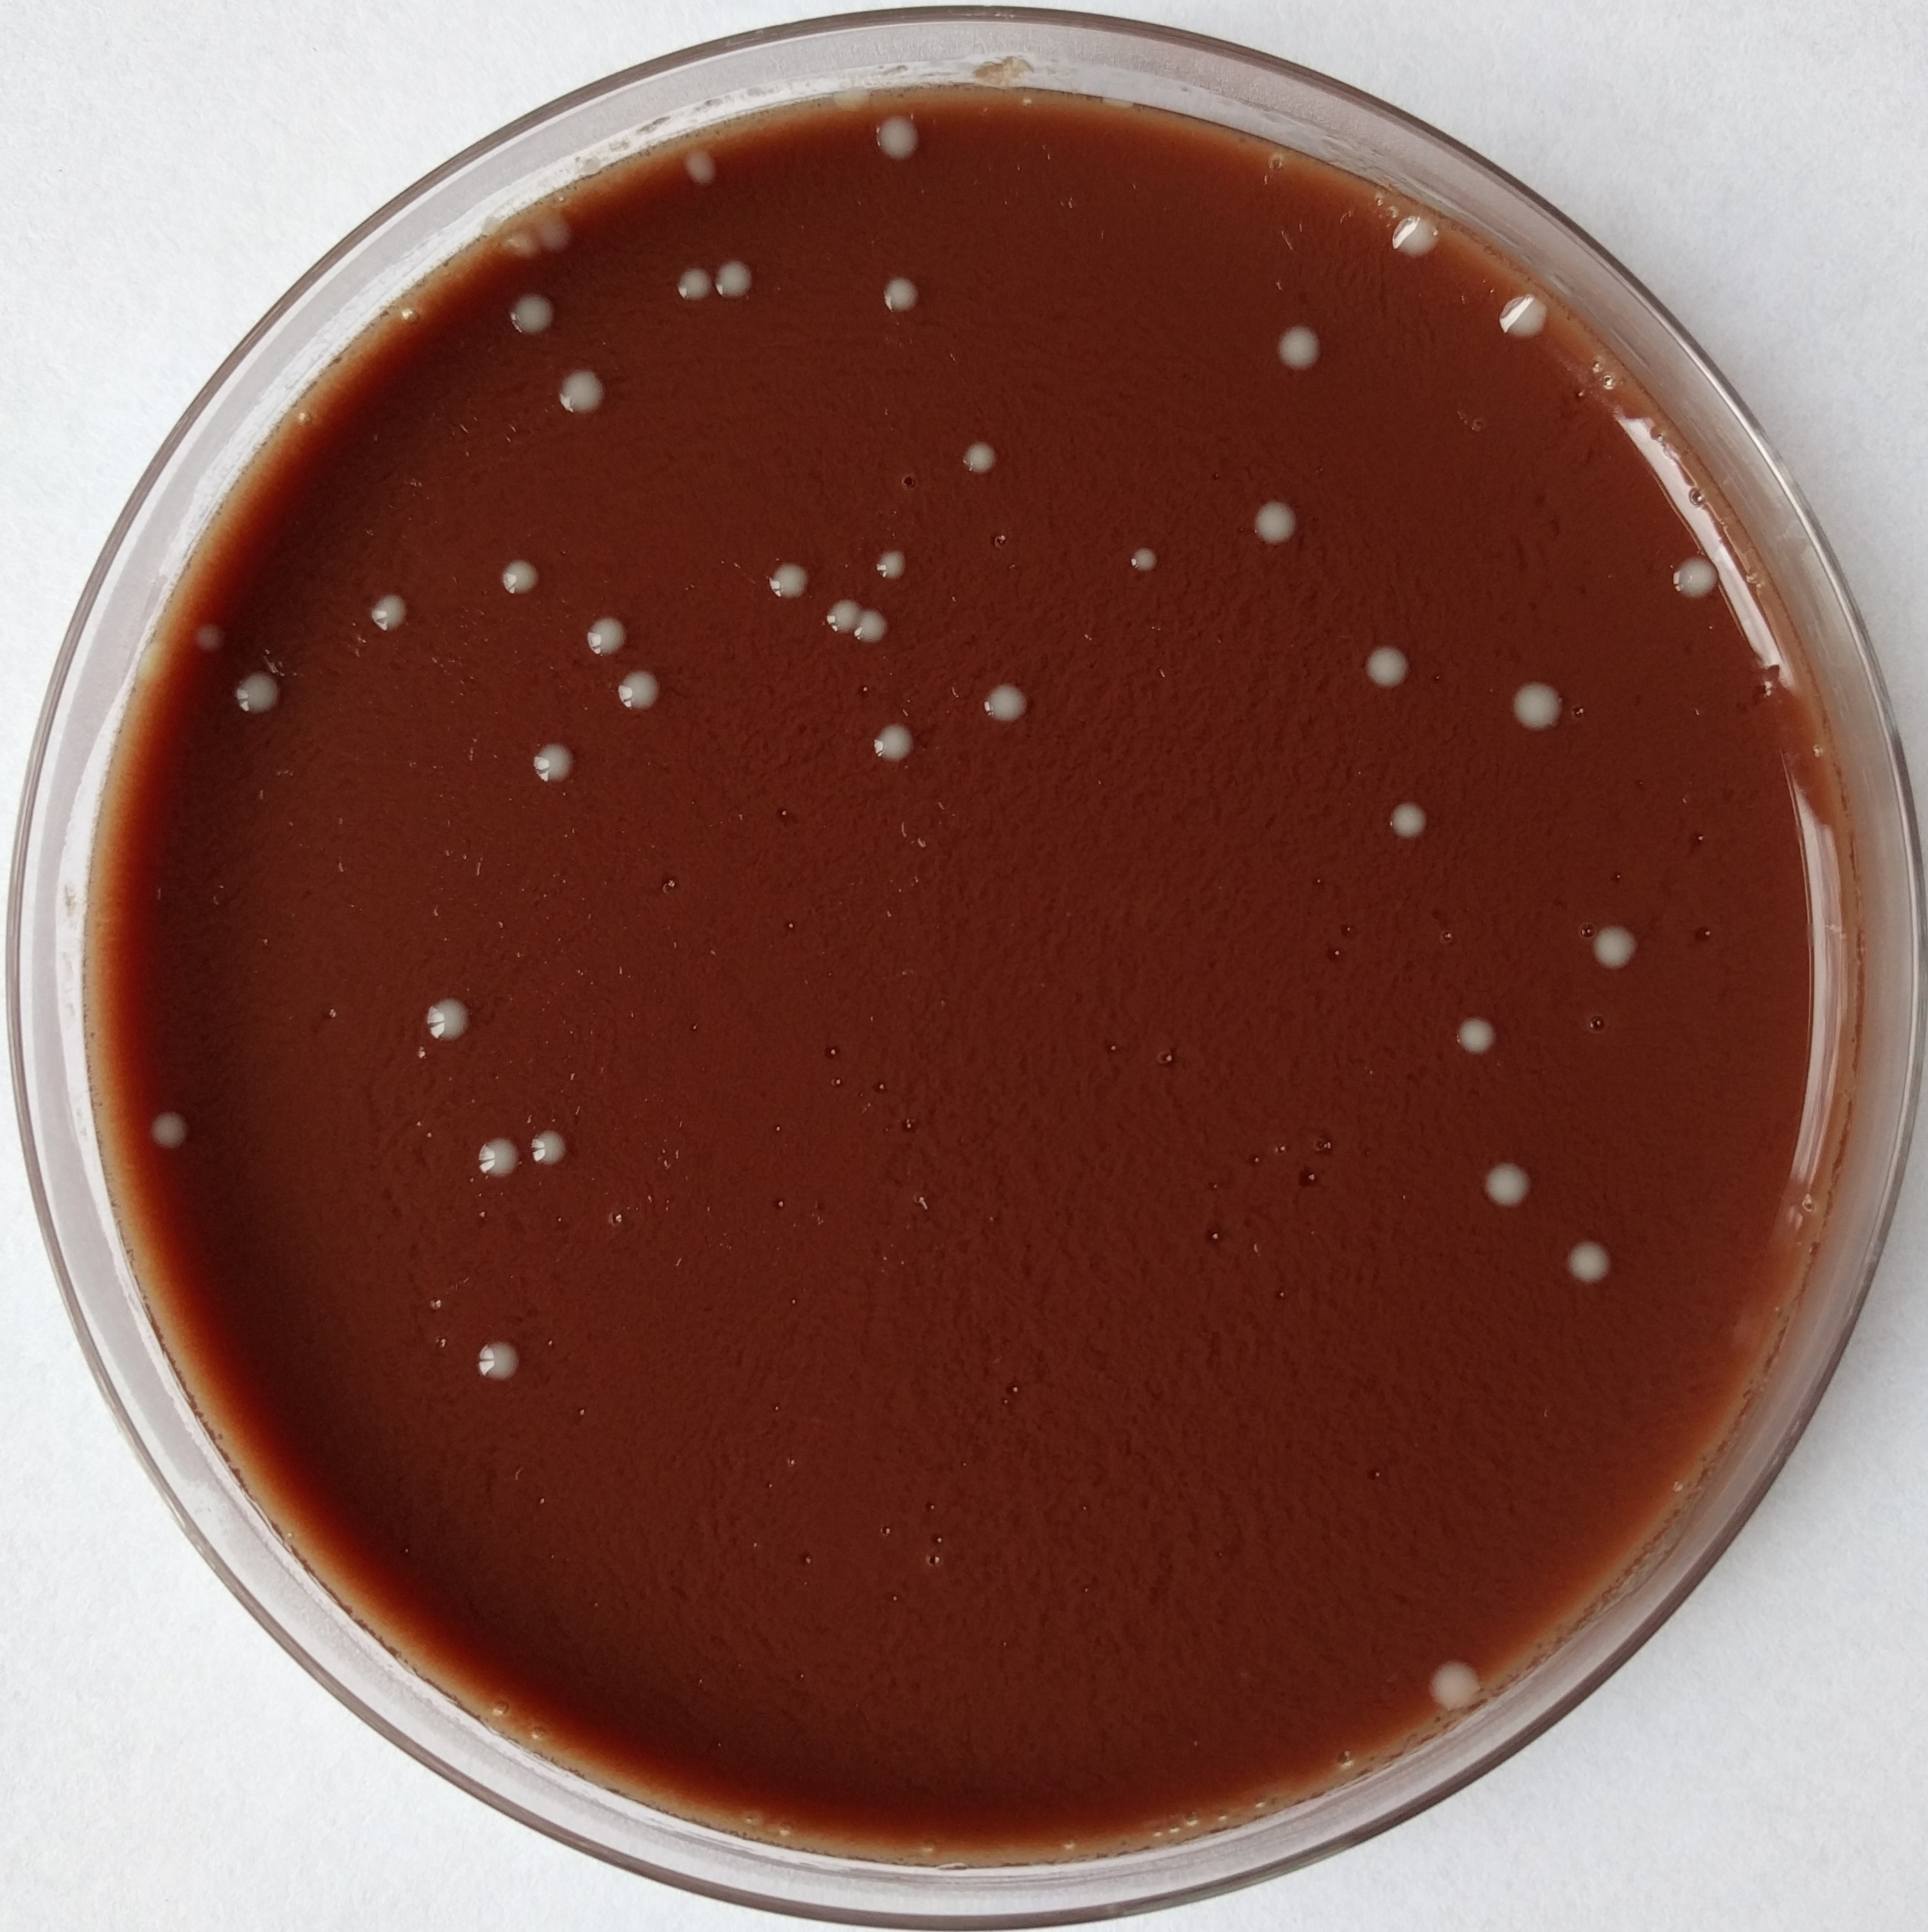sp12: (1490, 641, 1582, 754), (466, 1309, 553, 1406), (1465, 1139, 1554, 1217), (551, 336, 621, 426), (969, 662, 1047, 743), (1414, 1646, 1495, 1724), (1432, 1001, 1525, 1068), (1379, 191, 1453, 274), (1555, 1208, 1619, 1303), (606, 655, 673, 733), (403, 991, 484, 1054), (1573, 911, 1651, 975), (1241, 487, 1308, 558), (1352, 632, 1427, 696), (579, 597, 639, 675), (1266, 307, 1322, 389), (468, 1125, 538, 1189), (521, 729, 591, 789), (759, 539, 819, 606), (1490, 286, 1564, 339), (869, 104, 925, 173), (503, 283, 556, 353), (879, 267, 932, 334), (147, 1088, 201, 1151), (503, 532, 549, 606), (865, 712, 918, 775), (231, 666, 284, 729), (1670, 539, 1723, 602), (717, 256, 784, 306), (358, 586, 429, 632), (127, 632, 175, 698), (662, 256, 715, 313), (1118, 532, 1174, 585), (676, 138, 733, 191), (1375, 791, 1435, 841), (821, 583, 874, 636), (178, 604, 230, 657), (862, 546, 922, 588), (952, 438, 1008, 482), (823, 78, 870, 124), (533, 207, 579, 251), (851, 604, 893, 646), (528, 1128, 577, 1164), (494, 224, 531, 261)
